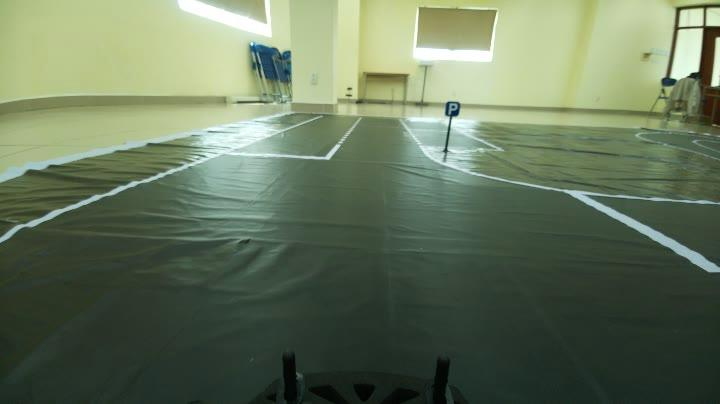parking: (441, 98, 464, 121)
